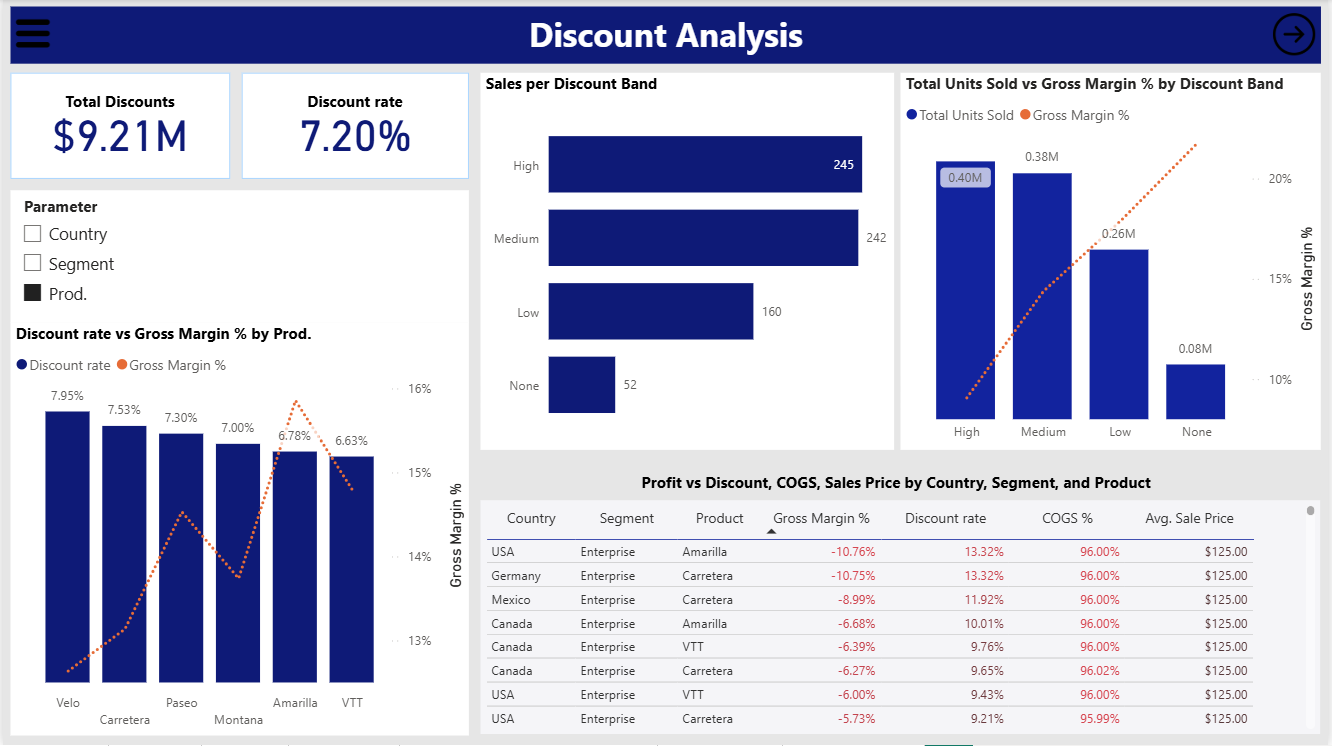

Layout of this report page (visuals, bound fields, positions):
{"tool":"powerbi","page":{"name":"Discount","canvas":[1280,720],"ordinal":3},"visuals":[{"type":"barChart","title":"Sales per Discount Band ","fields":{"Category":["financials. Discount Band "],"Y":["CountNonNull(financials. Discount Band )"]},"box":[460.9,71.2,399.3,364.3],"z":0},{"type":"cardVisual","fields":{"Data":["financials.Discount rate"]},"box":[230.4,71.2,219.6,102.5],"z":1000},{"type":"cardVisual","fields":{"Data":["Sum(financials.Discounts)"]},"box":[7.2,71.2,212.3,102.5],"z":2000},{"type":"lineClusteredColumnComboChart","title":"Discount rate vs Gross Margin % by  Prod. ","fields":{"Category":["financials. Prod. "],"Y":["financials.Discount rate"],"Y2":["financials.Gross Margin %"]},"box":[7.2,312.5,442.8,398.1],"z":3000},{"type":"slicer","fields":{"Values":["Parameter.Parameter"]},"box":[7.2,184.6,442.8,127.9],"z":4000},{"type":"tableEx","fields":{"Values":["financials.Country","financials.Segment","financials. Prod. ","financials.Gross Margin %","financials.Discount rate","financials.COGS %","Avg(financials. Sale Price )"]},"box":[460.9,483.8,810.7,225.6],"z":5000},{"type":"textbox","box":[6.9,6.9,1265.2,54.9],"z":6000},{"type":"textbox","box":[585.1,451.2,553.8,32.6],"z":7000},{"type":"lineClusteredColumnComboChart","title":"Total Units Sold vs Gross Margin % by  Discount Band ","fields":{"Y":["Sum(financials.Units Sold)"],"Y2":["financials.Gross Margin %"],"Category":["financials. Discount Band "]},"box":[866.2,71.2,405.4,364.3],"z":8000},{"type":"image","box":[7.2,7.2,43.4,51.9],"z":9000},{"type":"image","box":[1220.9,4.8,50.7,57.9],"z":10000}]}

Visuals, with their boxes in screenshot pixels (x1, y1, x2, y2), scaled from the page's 1280x720 canvas onto the 1332x746 screenshot:
"Sales per Discount Band " barChart: {"left": 480, "top": 74, "right": 895, "bottom": 451}
cardVisual - financials.Discount rate: {"left": 240, "top": 74, "right": 468, "bottom": 180}
cardVisual - Sum(financials.Discounts): {"left": 7, "top": 74, "right": 228, "bottom": 180}
"Discount rate vs Gross Margin % by  Prod. " lineClusteredColumnComboChart: {"left": 7, "top": 324, "right": 468, "bottom": 736}
slicer - Parameter.Parameter: {"left": 7, "top": 191, "right": 468, "bottom": 324}
tableEx - financials.Country x financials.Segment: {"left": 480, "top": 501, "right": 1323, "bottom": 735}
textbox: {"left": 7, "top": 7, "right": 1324, "bottom": 64}
textbox: {"left": 609, "top": 467, "right": 1185, "bottom": 501}
"Total Units Sold vs Gross Margin % by  Discount Band " lineClusteredColumnComboChart: {"left": 901, "top": 74, "right": 1323, "bottom": 451}
image: {"left": 7, "top": 7, "right": 53, "bottom": 61}
image: {"left": 1270, "top": 5, "right": 1323, "bottom": 65}
